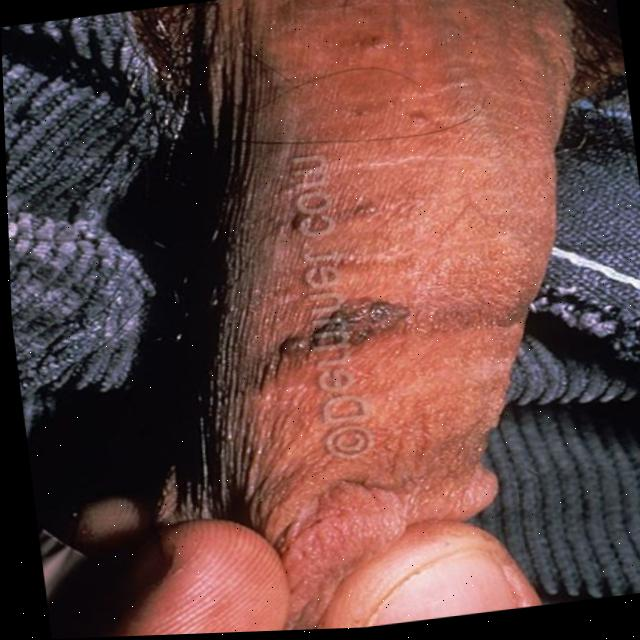Shingles: (285, 273, 420, 363)
